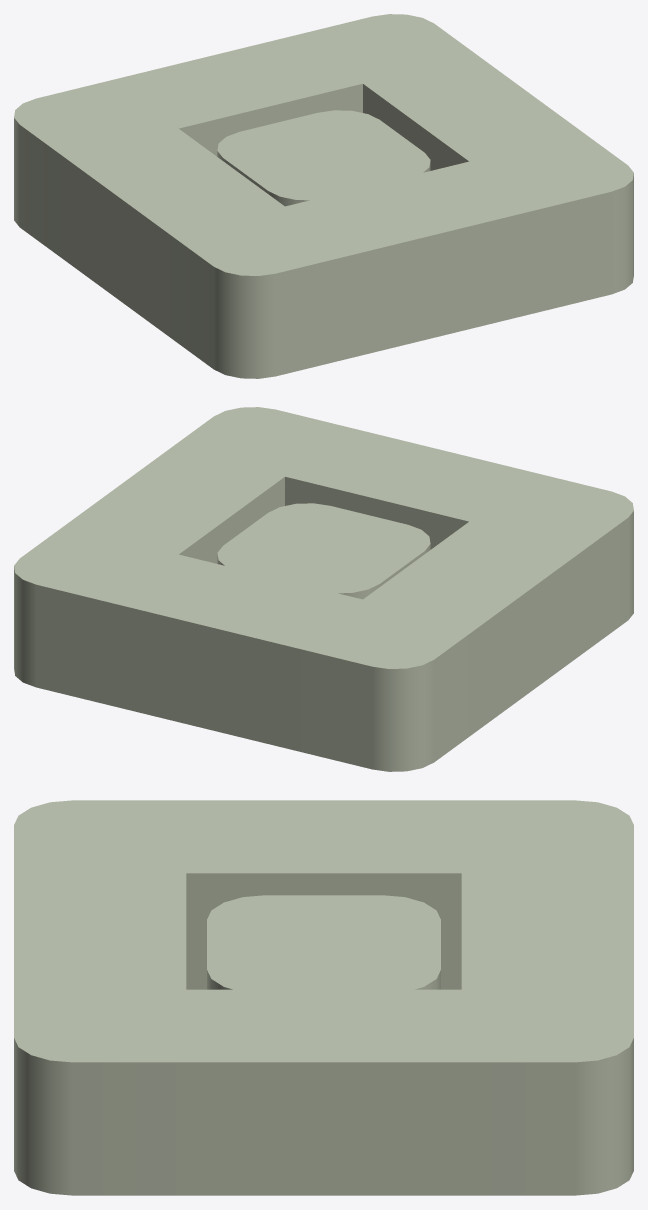
The model's file is Endcube.fbx.
The picture shows the model from 3 angles, top to bottom: view 1: azimuth 30°, elevation 25°; view 2: azimuth 150°, elevation 25°; view 3: azimuth 270°, elevation 25°; orthographic projection. The views are drawn at different scales.
Parts seen in each view (by area): view 1: group4; view 2: group4; view 3: group4.
Boxes of the visible parts, bbox=[...] form: group4: bbox=[14, 14, 633, 378]; group4: bbox=[14, 407, 633, 771]; group4: bbox=[14, 800, 633, 1195].
Size of the model in its own units: 0.83 by 0.1967 by 0.83.
